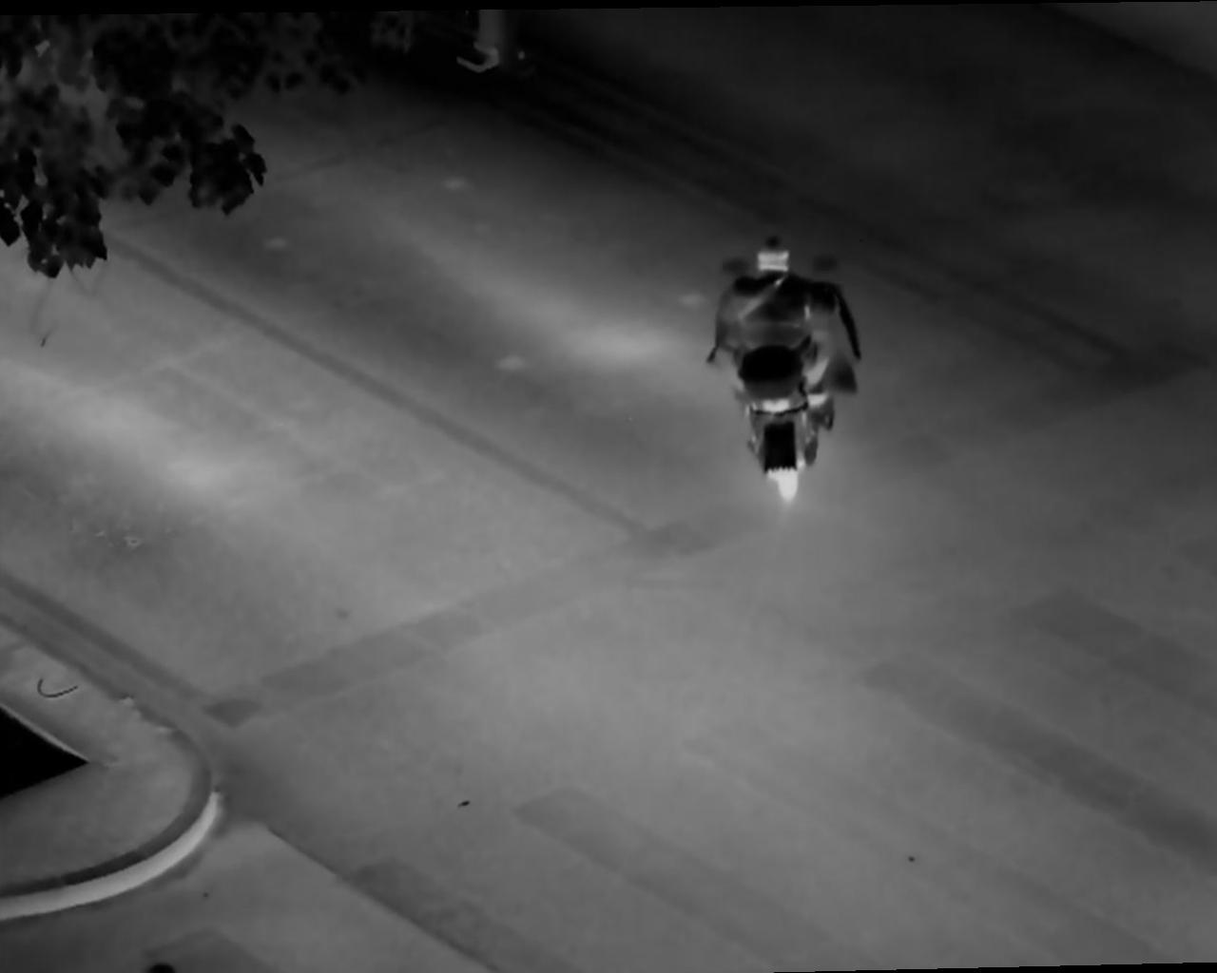person: (710, 243, 857, 456)
